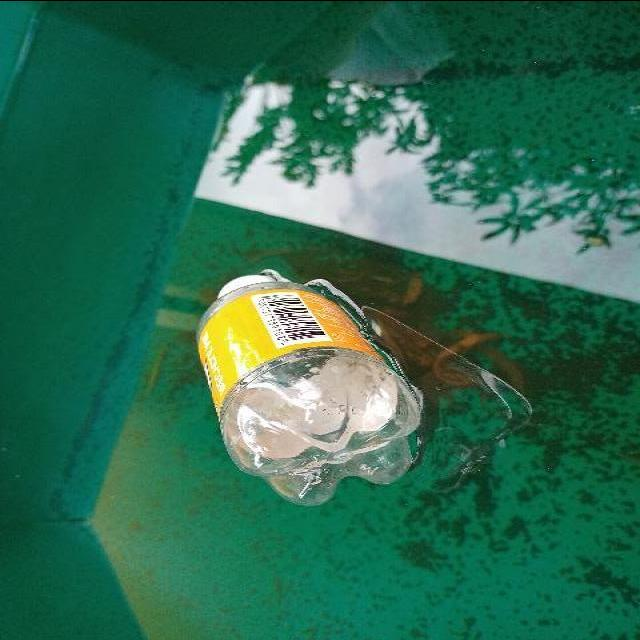Bottle: (188, 262, 432, 518)
